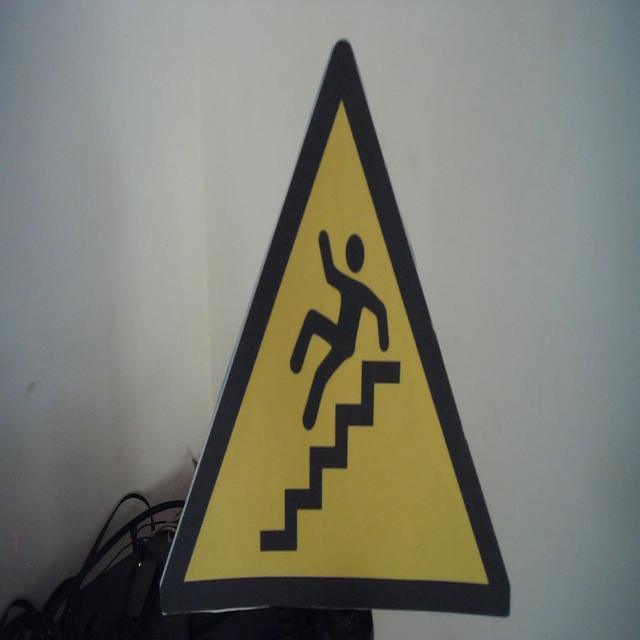stairs: (159, 35, 513, 620)
